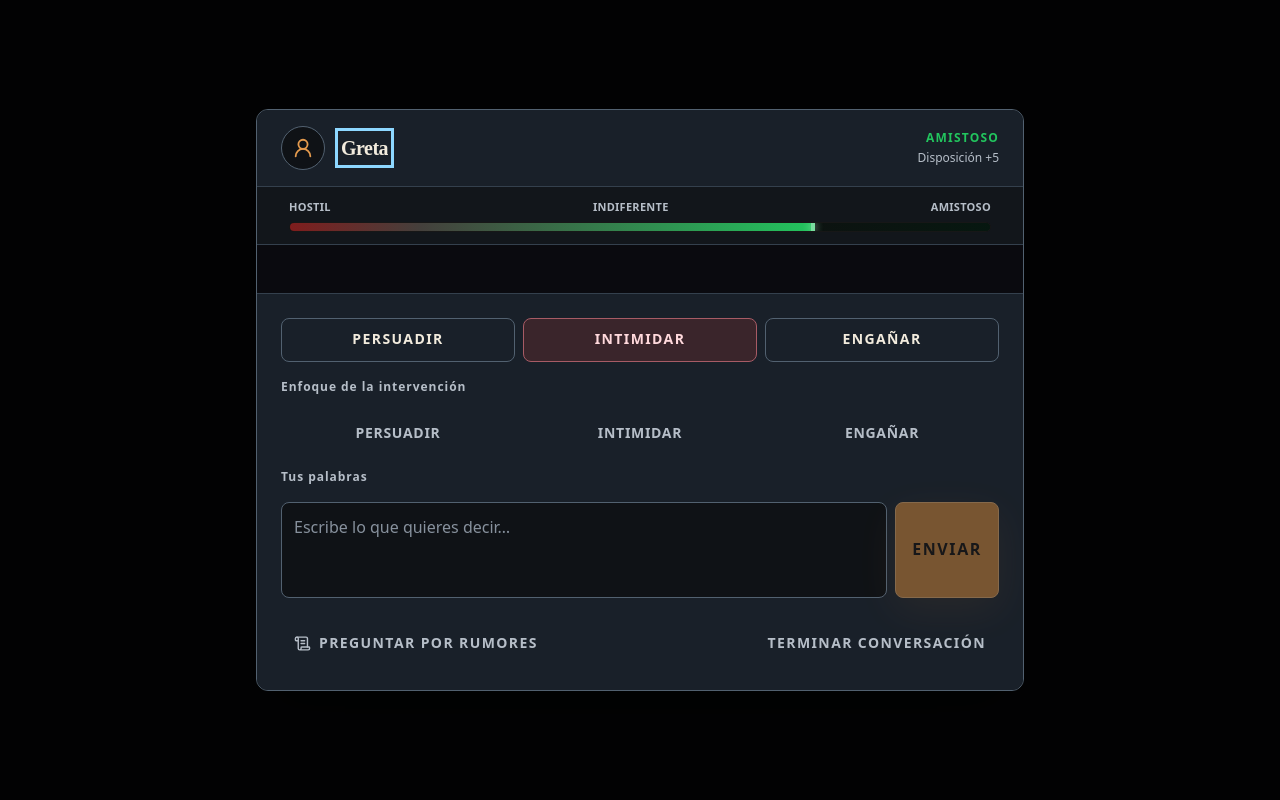
Test: DialogueOverlayController › shows the route's error message on a failed check and leaves disposition unchanged
Step 1. Click the 1st button "Persuadir" → (398, 340), box [281,318,515,362]
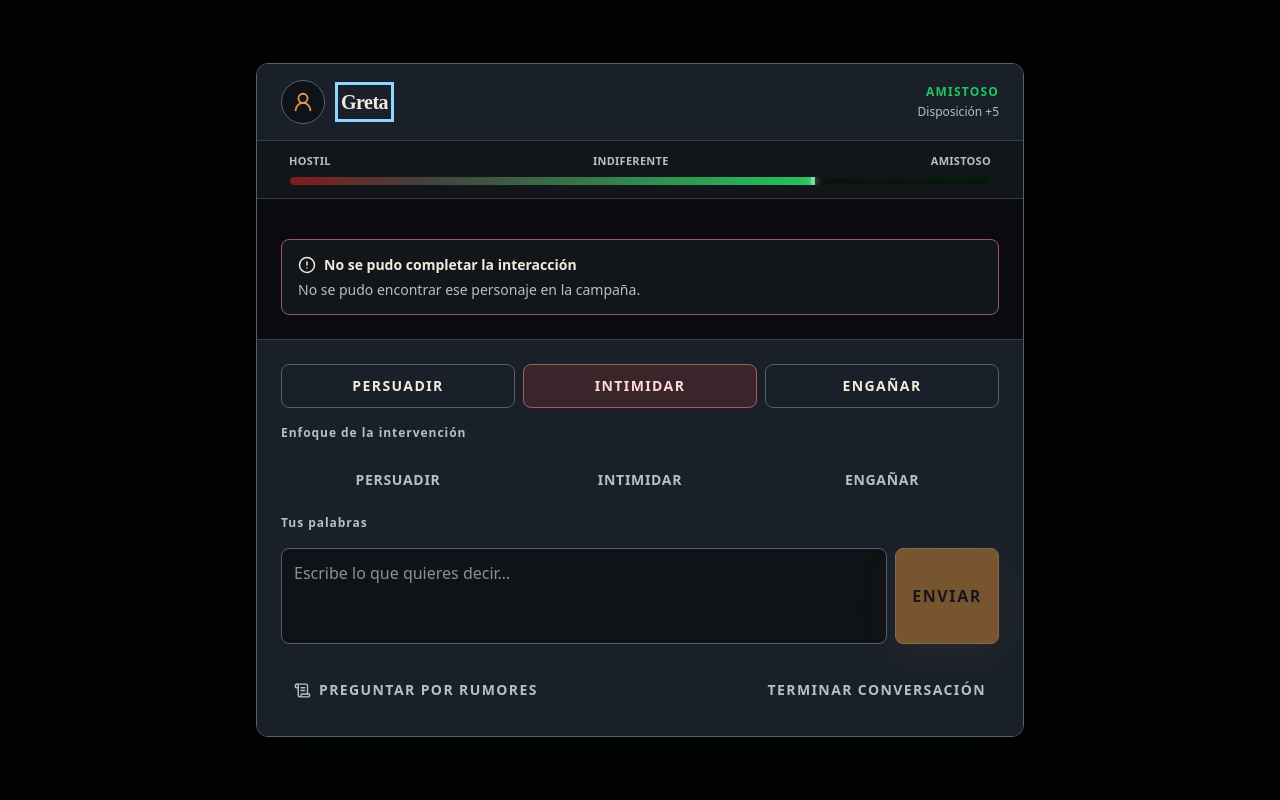
expect the text "Disposición +5" is shown: met, box [918,104,999,120]
expect the text "No se pudo encontrar ese personaje en la campaña." is shown: met, box [298,279,640,298]
